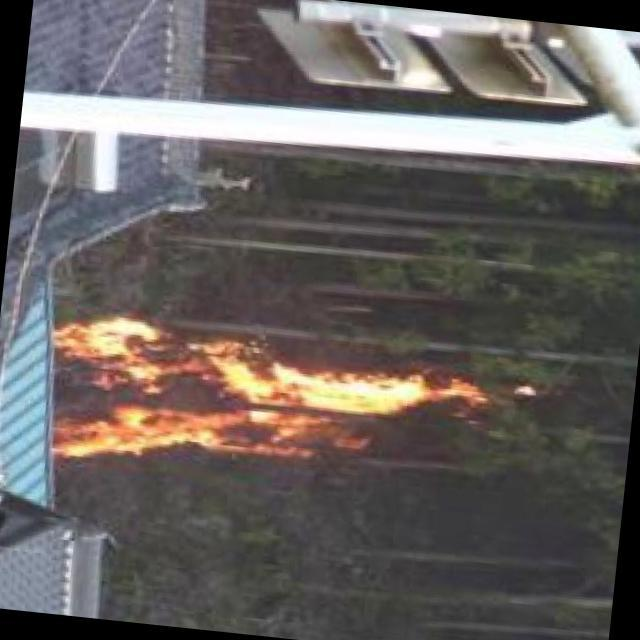Fire: (47, 306, 475, 500)
